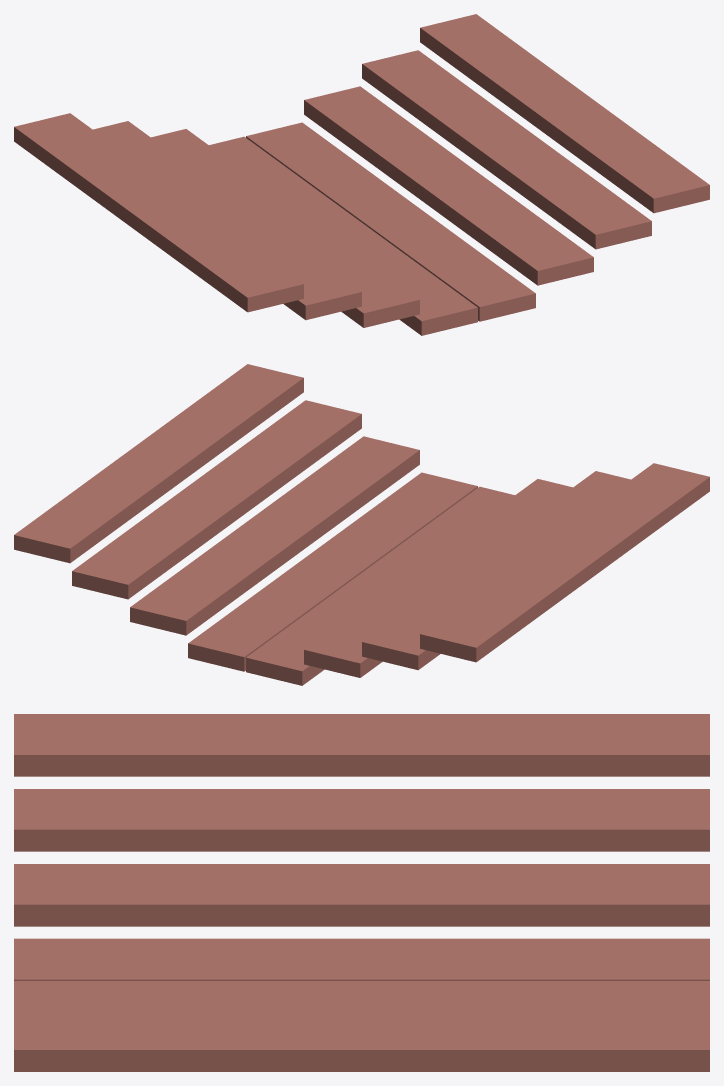
The model's file is iz2_roof_dormer.glb.
3 views of the same model, one above another, from view 1: azimuth 30°, elevation 25°; view 2: azimuth 150°, elevation 25°; view 3: azimuth 270°, elevation 25° (orthographic). The views are drawn at different scales.
Parts seen in each view (by area): view 1: roof_06, roof_00, roof_07, roof_05, roof_04, roof_03, roof_01, roof_02; view 2: roof_06, roof_00, roof_07, roof_05, roof_04, roof_03, roof_01, roof_02; view 3: roof_00, roof_01, roof_02, roof_07, roof_03, roof_04, roof_05, roof_06.
Boxes of the visible parts, x1,y1,x2,y2 form: roof_06: (362, 50, 651, 249); roof_00: (14, 113, 303, 312); roof_07: (420, 14, 709, 213); roof_05: (304, 86, 593, 285); roof_04: (246, 122, 535, 321); roof_03: (209, 136, 477, 335); roof_01: (93, 121, 361, 320); roof_02: (151, 129, 419, 327); roof_06: (72, 400, 361, 599); roof_00: (420, 463, 709, 662); roof_07: (14, 364, 303, 563); roof_05: (130, 436, 419, 635); roof_04: (188, 472, 477, 671); roof_03: (246, 486, 514, 685); roof_01: (362, 471, 630, 670); roof_02: (304, 479, 572, 677); roof_00: (14, 714, 709, 776); roof_01: (14, 789, 709, 851); roof_02: (14, 864, 709, 926); roof_07: (14, 1009, 709, 1071); roof_03: (14, 938, 709, 980); roof_04: (14, 981, 709, 990); roof_05: (14, 990, 709, 999); roof_06: (14, 1000, 709, 1009).
Bounding box in the file's own units: 2.64 × 0.44 × 2.31.
